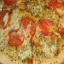pizza: (2, 1, 64, 63)
